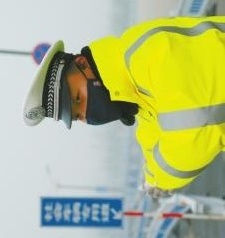person: (20, 13, 225, 195)
